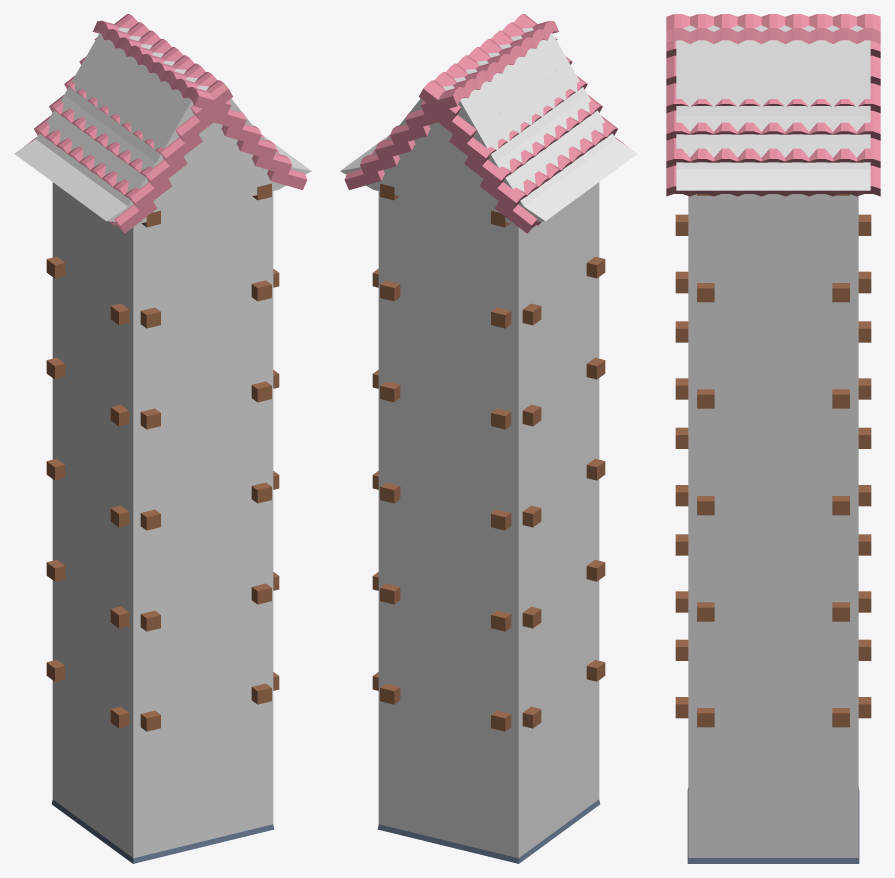
The model's file is building#1.fbx.
3 renders of one model, left to right at view 1: azimuth 30°, elevation 25°; view 2: azimuth 150°, elevation 25°; view 3: azimuth 270°, elevation 25°, orthographic. The views are drawn at different scales.
Parts seen in each view (by area): view 1: COLLIDEER, roof tiles, tower, stone bottom, wooden nub.001, wooden nub; view 2: COLLIDEER, roof tiles, tower, stone bottom, wooden nub.001, wooden nub; view 3: COLLIDEER, roof tiles, tower, stone bottom, wooden nub, wooden nub.001.
Boxes of the visible parts, left/top/right/bottom form: COLLIDEER: left=14, top=27, right=311, bottom=858; roof tiles: left=24, top=14, right=307, bottom=233; tower: left=46, top=183, right=279, bottom=631; stone bottom: left=51, top=799, right=274, bottom=863; wooden nub.001: left=46, top=660, right=279, bottom=728; wooden nub: left=140, top=683, right=271, bottom=731; COLLIDEER: left=340, top=27, right=637, bottom=858; roof tiles: left=344, top=14, right=627, bottom=233; tower: left=372, top=183, right=605, bottom=631; stone bottom: left=377, top=799, right=600, bottom=863; wooden nub.001: left=372, top=660, right=605, bottom=728; wooden nub: left=380, top=683, right=511, bottom=731; COLLIDEER: left=676, top=25, right=870, bottom=857; roof tiles: left=666, top=14, right=880, bottom=196; tower: left=675, top=194, right=871, bottom=621; stone bottom: left=687, top=788, right=859, bottom=863; wooden nub: left=675, top=639, right=871, bottom=718; wooden nub.001: left=697, top=708, right=849, bottom=727.
Bounding box in the file's own units: 1327 × 4720 × 1138.
